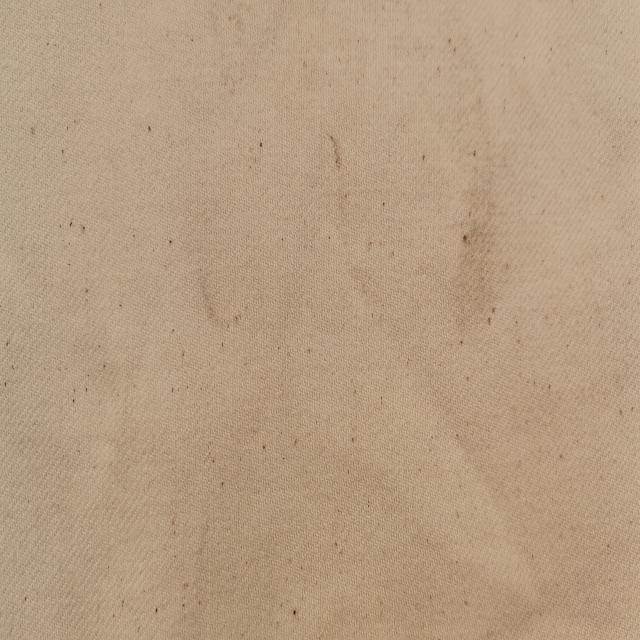taaaches: (450, 159, 504, 357), (198, 274, 228, 336), (326, 118, 346, 179)
